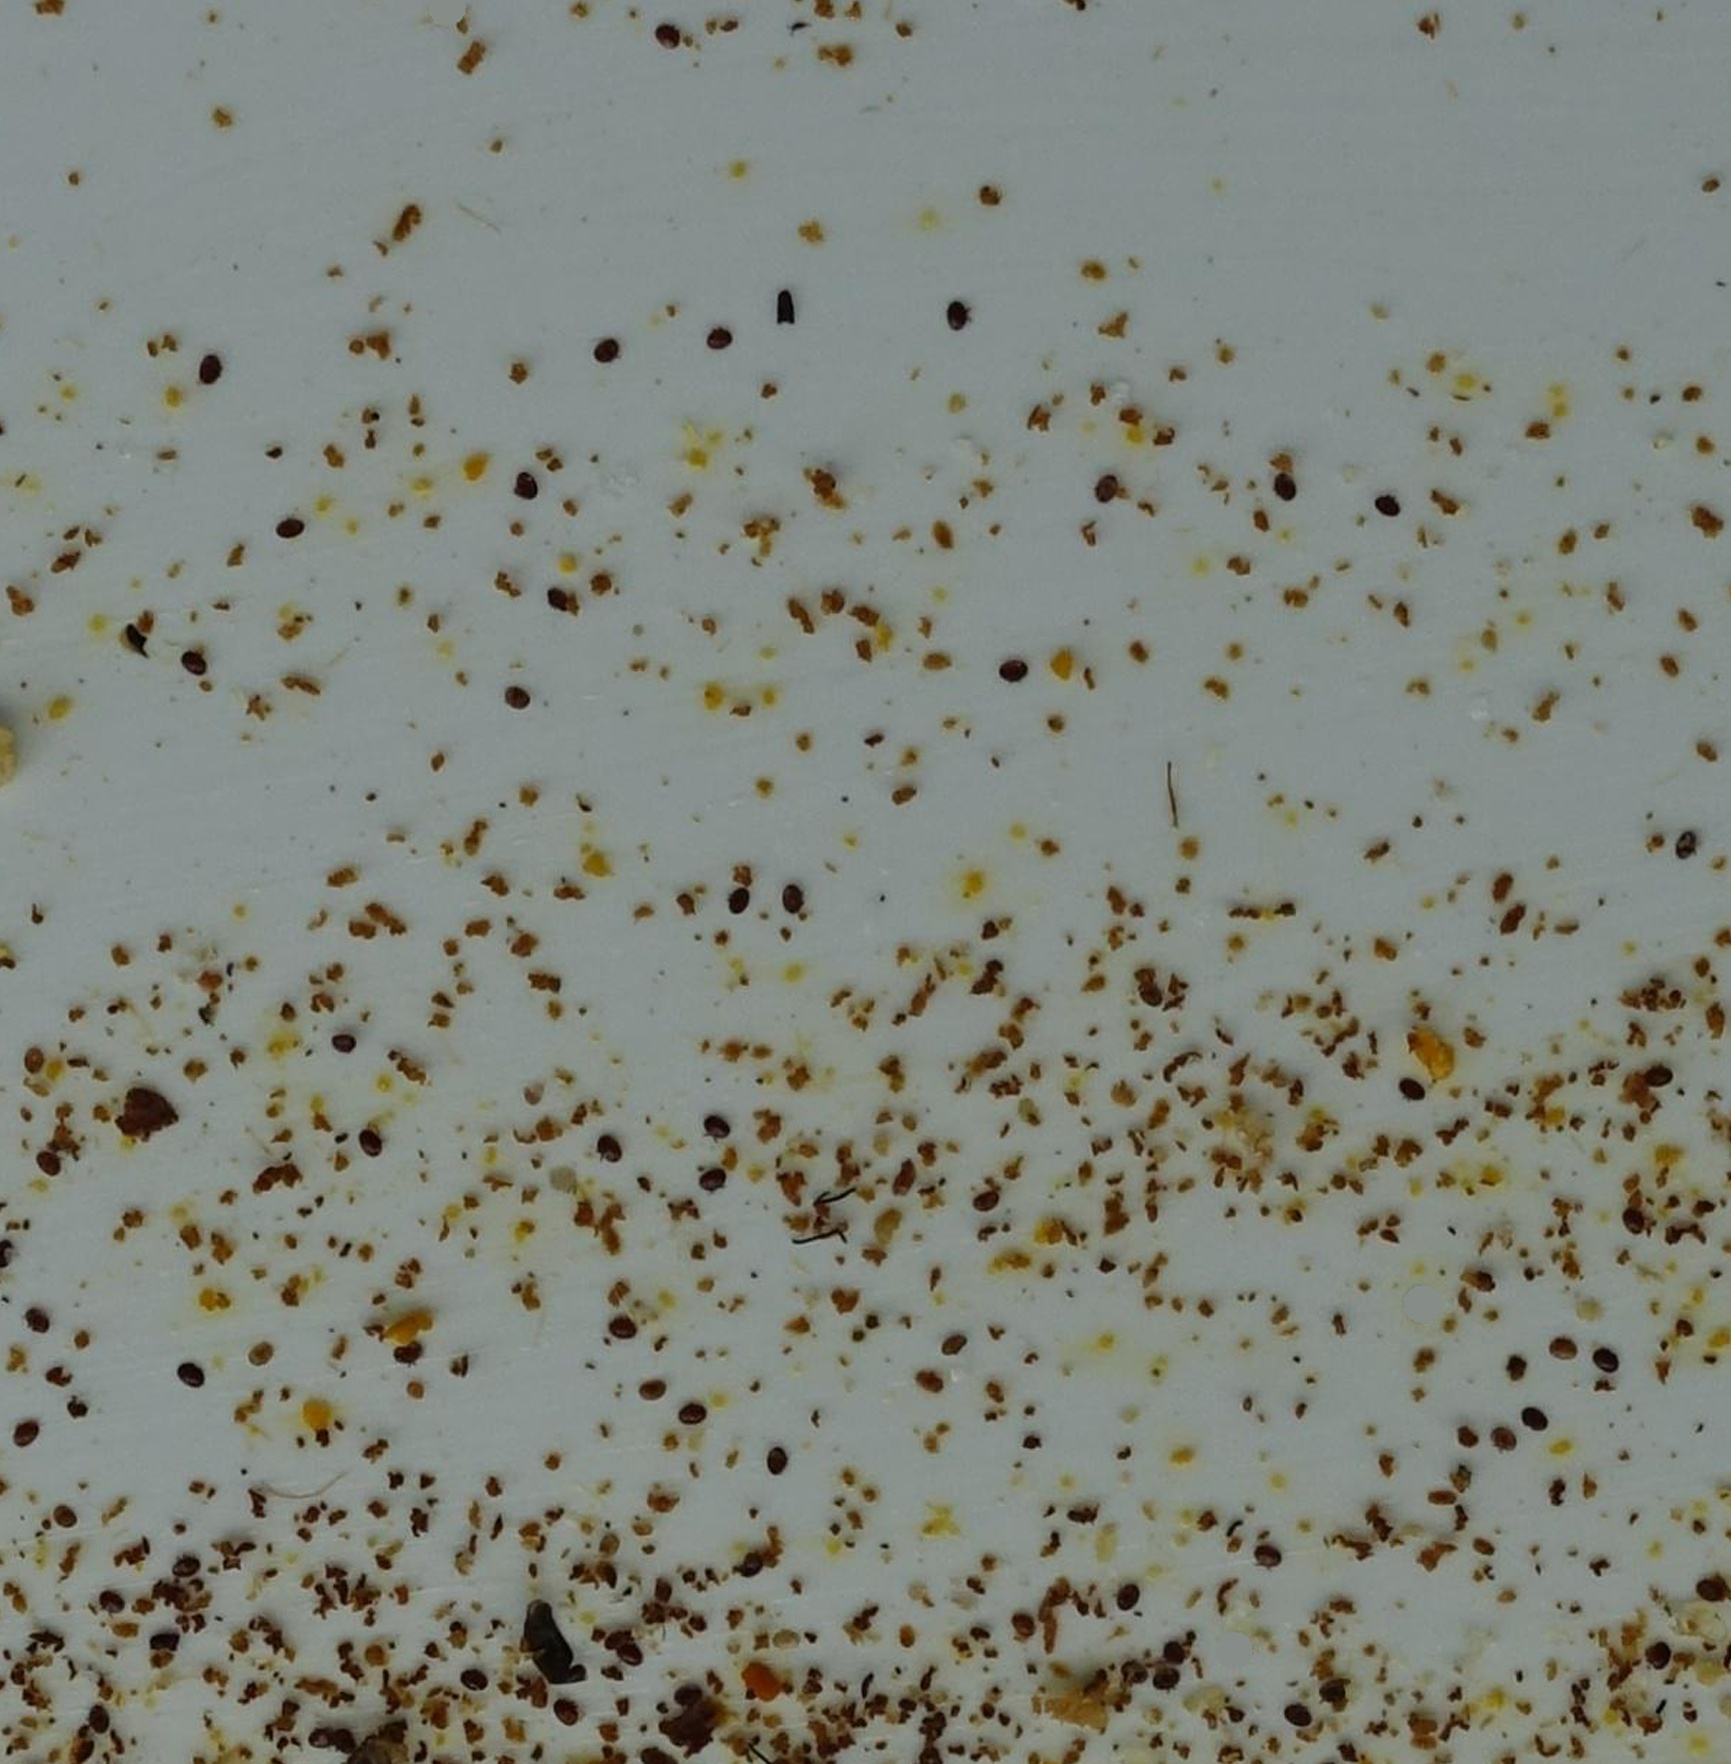Varroa: (1113, 1648, 1157, 1693), (536, 577, 580, 620), (590, 1553, 632, 1598), (666, 1674, 710, 1716), (387, 1331, 430, 1374), (322, 1718, 365, 1761), (845, 1663, 888, 1705), (1154, 1631, 1197, 1674), (1542, 1334, 1577, 1371), (1482, 1423, 1515, 1460), (514, 464, 544, 502), (671, 1401, 702, 1434), (1617, 1206, 1649, 1239), (702, 1116, 734, 1147), (308, 1721, 339, 1753), (328, 1027, 358, 1060), (1523, 1401, 1553, 1434), (181, 1358, 211, 1390), (357, 1130, 387, 1162), (594, 1136, 625, 1168), (702, 325, 732, 357), (1138, 981, 1168, 1013), (1644, 1065, 1674, 1097), (1249, 1541, 1279, 1572), (942, 298, 972, 330), (758, 1450, 788, 1482), (656, 22, 686, 52), (274, 514, 304, 544), (772, 886, 802, 916), (193, 357, 224, 387), (591, 331, 621, 361), (1282, 1705, 1313, 1735), (181, 643, 209, 675), (1111, 1588, 1140, 1620), (1644, 1640, 1672, 1672), (1376, 491, 1404, 523), (460, 1666, 488, 1696), (1671, 835, 1699, 865), (999, 655, 1027, 685), (239, 1338, 268, 1368), (972, 1190, 1000, 1220), (48, 1498, 78, 1526), (1696, 1577, 1725, 1607), (11, 1418, 40, 1449), (170, 1555, 198, 1585), (24, 1308, 52, 1338), (79, 1707, 108, 1737), (739, 1556, 767, 1586), (97, 1586, 125, 1617), (636, 1374, 666, 1403), (25, 1046, 54, 1076), (613, 1642, 642, 1672), (1588, 1349, 1617, 1377), (550, 1701, 579, 1729), (697, 1168, 726, 1197), (504, 682, 533, 710), (1094, 475, 1121, 506), (1398, 1079, 1425, 1108), (1011, 1610, 1038, 1639), (1154, 1661, 1181, 1690), (1270, 472, 1297, 499), (1317, 1678, 1344, 1705), (938, 1338, 965, 1365), (35, 1151, 60, 1178), (612, 1311, 637, 1338), (728, 888, 751, 914)
